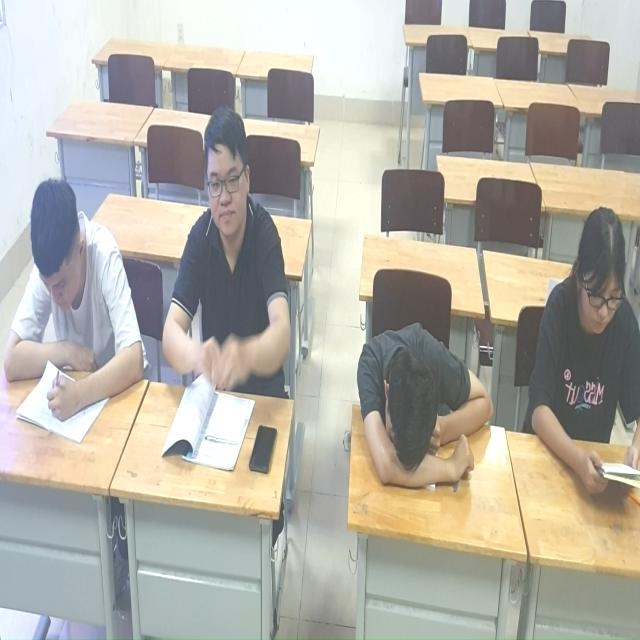read: (1, 176, 150, 458), (514, 204, 640, 502)
sleep: (355, 311, 494, 505)
